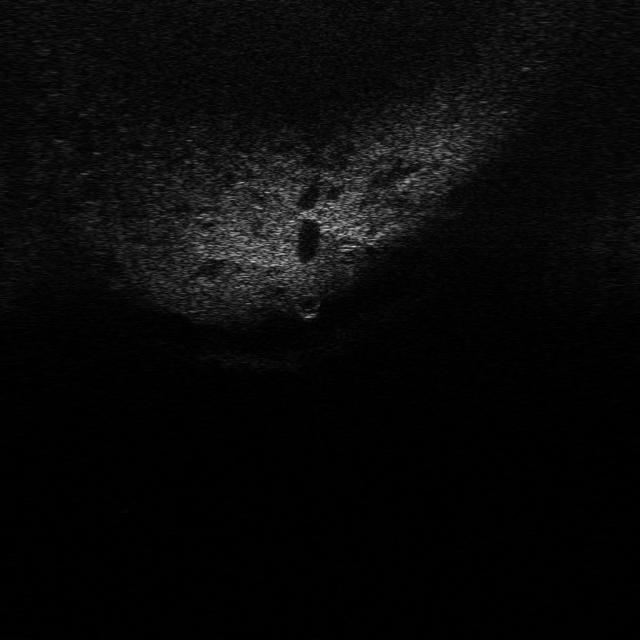ball: (287, 286, 327, 317)
